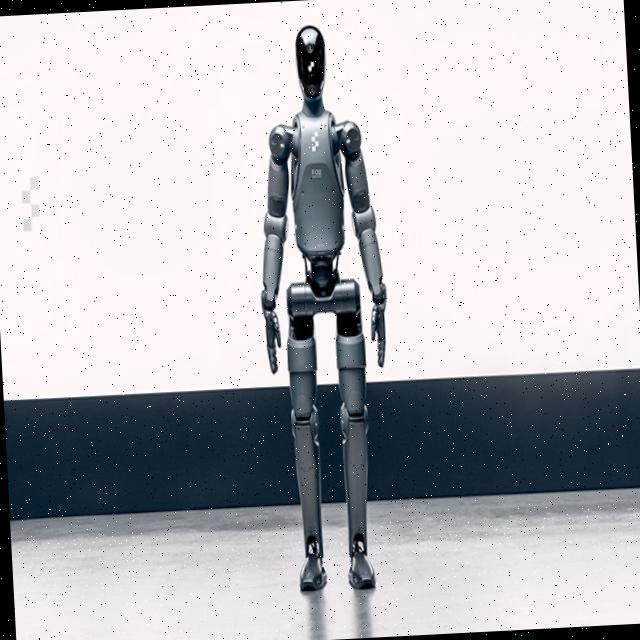robot: (245, 21, 402, 597)
